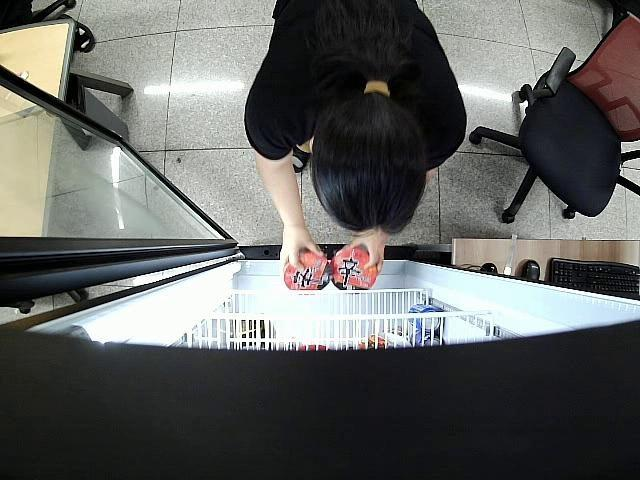01_ShinRamen_L: (331, 246, 378, 297), (283, 248, 332, 296)
